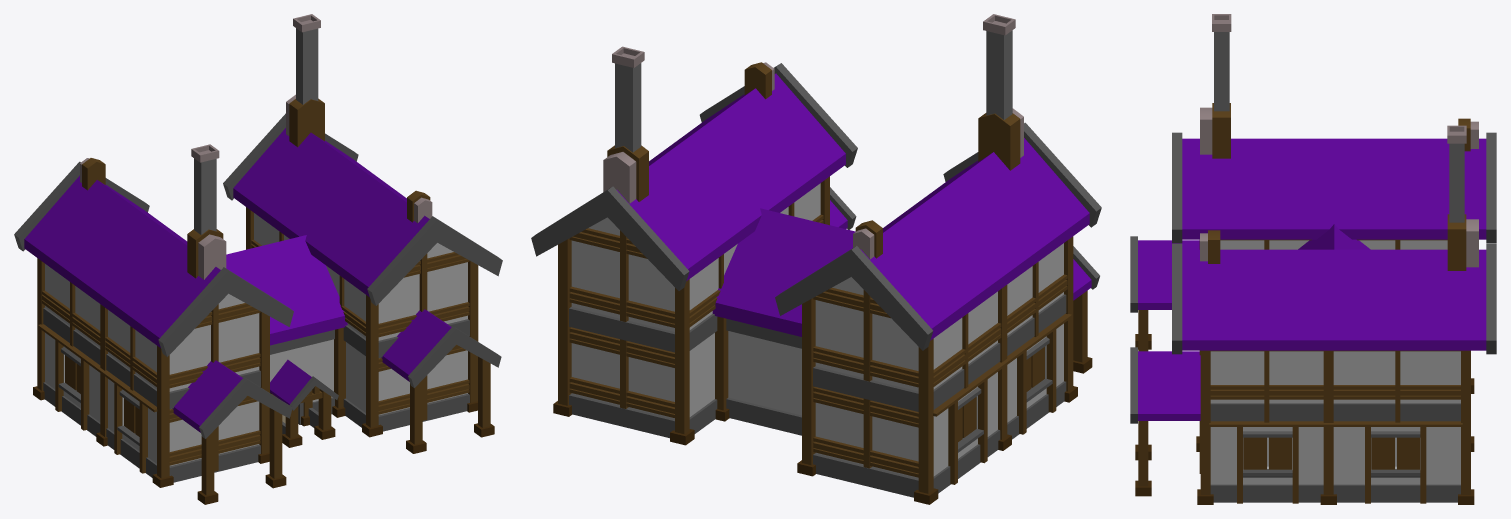
The model's file is Mesh_Royal_bgi_hos.fbx.
3 views of the same model, side by side, from view 1: azimuth 30°, elevation 25°; view 2: azimuth 150°, elevation 25°; view 3: azimuth 270°, elevation 25° (orthographic). The views are drawn at different scales.
Visible parts, largest first — view 1: Royal_bgi_hos; view 2: Royal_bgi_hos; view 3: Royal_bgi_hos.
Part boxes in pixels (bbox=[...]): Royal_bgi_hos: bbox=[14, 14, 502, 504]; Royal_bgi_hos: bbox=[531, 14, 1101, 504]; Royal_bgi_hos: bbox=[1130, 14, 1496, 504].
Size of the model in its own units: 2058 by 1834 by 1762.
